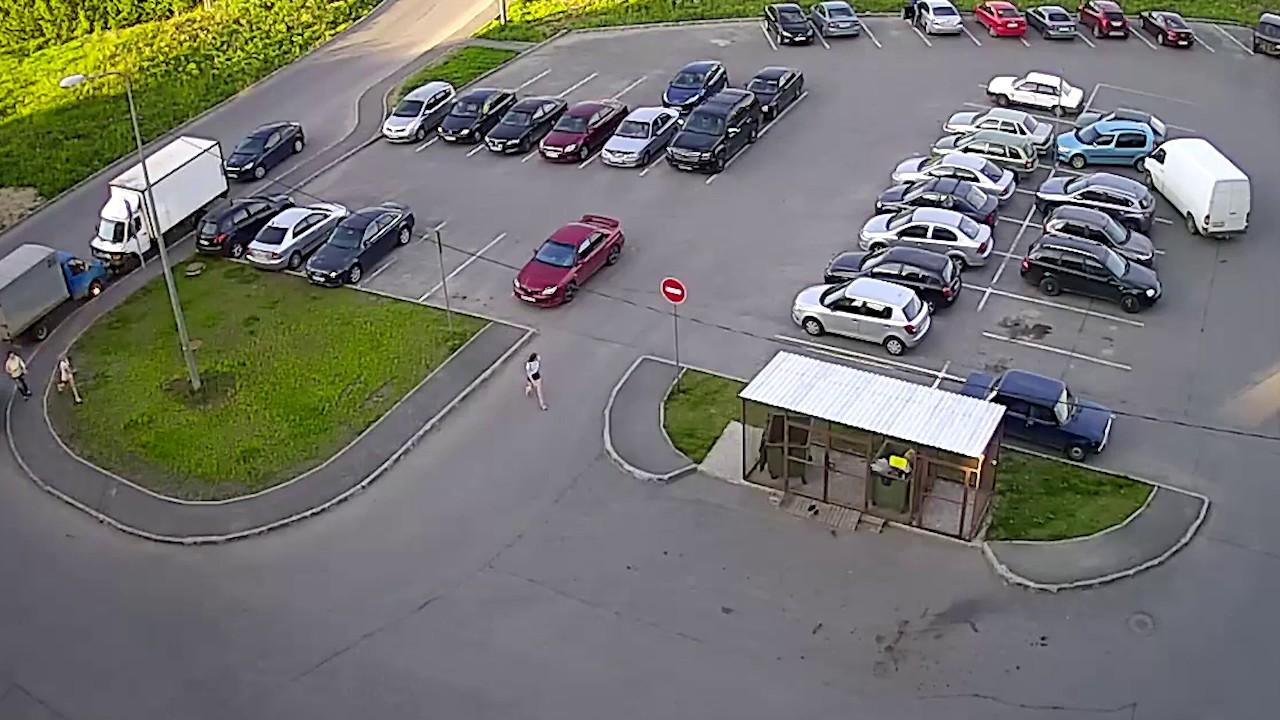empty: (77, 153, 228, 258), (962, 378, 1113, 470), (0, 238, 98, 357), (1160, 146, 1265, 240), (508, 219, 616, 308), (794, 280, 941, 343), (303, 205, 410, 287), (1015, 247, 1164, 300), (666, 95, 762, 176), (244, 202, 331, 265), (541, 102, 624, 166), (860, 212, 995, 251), (216, 123, 307, 179), (190, 196, 277, 253), (603, 107, 678, 171), (1026, 210, 1145, 249), (380, 85, 458, 142), (1036, 176, 1150, 213), (842, 250, 964, 282), (1070, 119, 1171, 156), (440, 91, 511, 143), (486, 103, 555, 156), (878, 185, 994, 216), (900, 159, 1011, 189), (998, 72, 1080, 110), (661, 62, 727, 104), (933, 137, 1033, 162), (960, 111, 1051, 138), (909, 2, 970, 39), (972, 3, 1031, 39), (1141, 9, 1197, 46), (768, 7, 819, 45), (1029, 7, 1083, 40), (812, 5, 861, 39), (1084, 7, 1134, 40), (1247, 23, 1280, 59)
occupied: (981, 356, 1083, 392), (1007, 302, 1089, 344), (395, 245, 453, 281), (458, 259, 512, 296), (1192, 21, 1236, 50), (487, 64, 531, 87), (634, 80, 668, 99), (869, 21, 905, 38), (587, 79, 622, 94), (731, 29, 763, 45), (533, 78, 567, 92)
